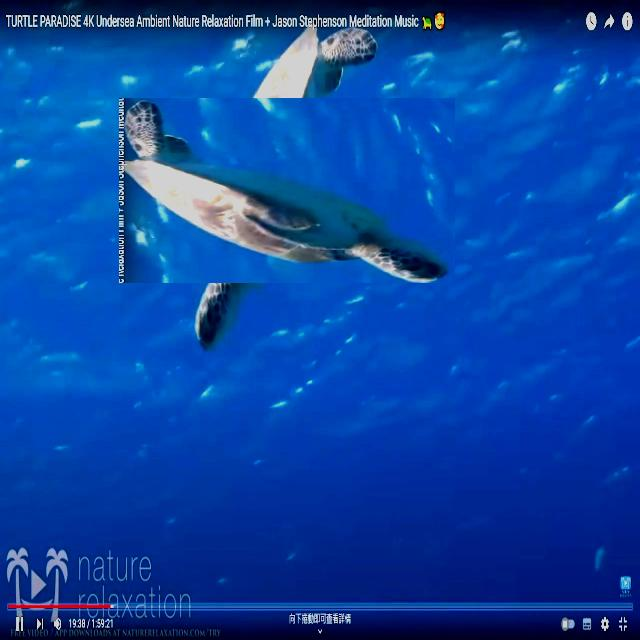Sea turtle: (157, 60, 417, 320)
